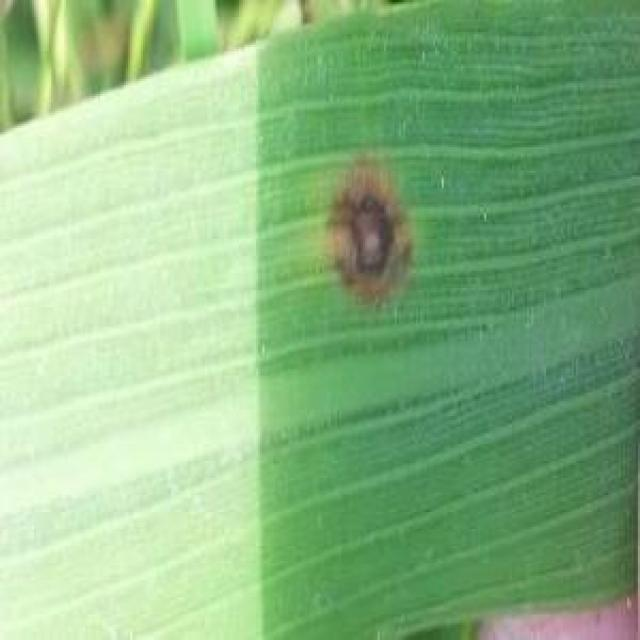brownspots: (309, 179, 444, 303)
